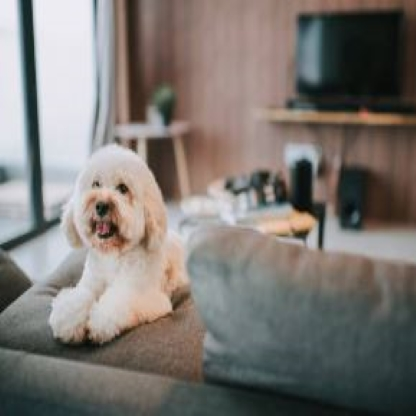maltese: (47, 135, 189, 357)
